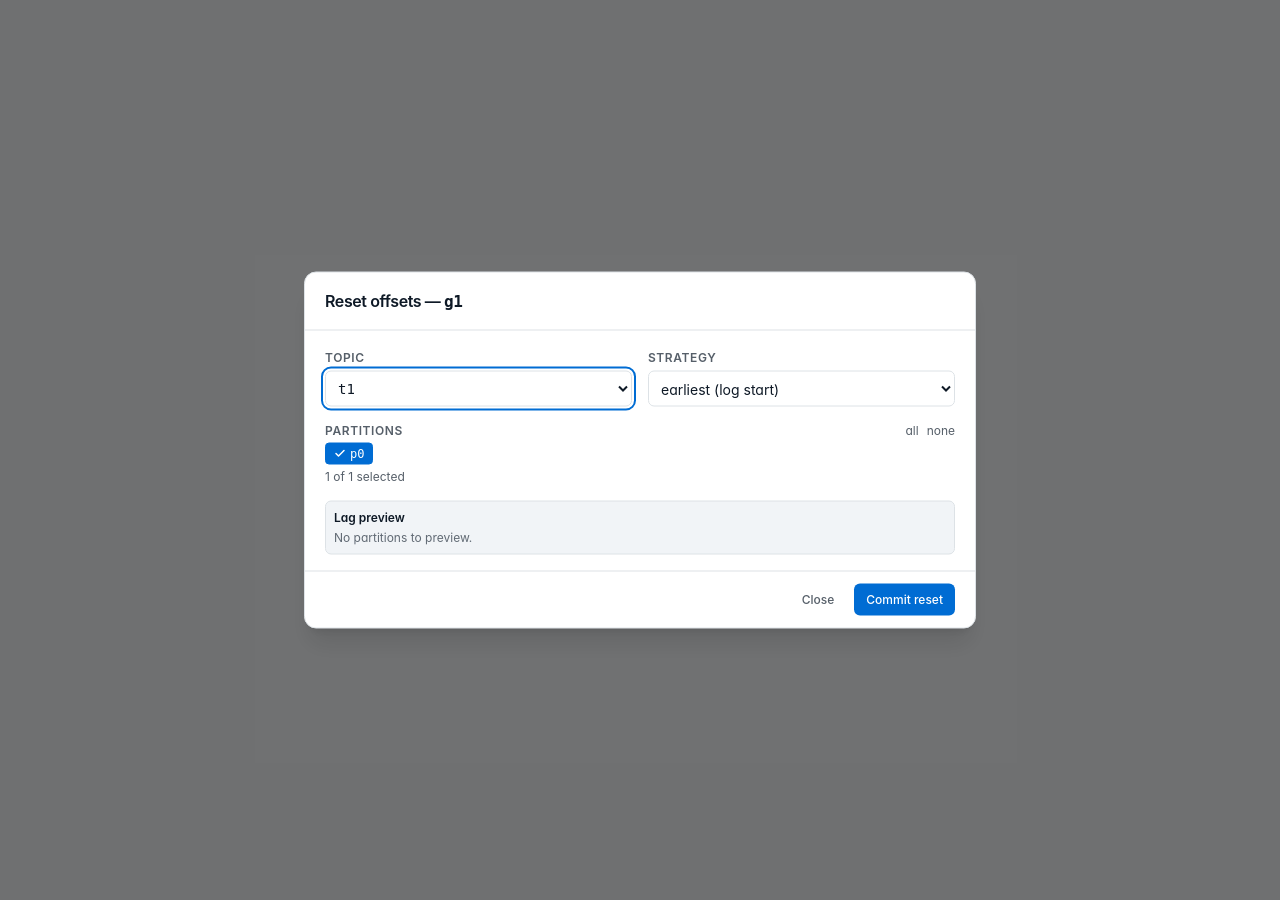
Test: ResetOffsetsModal timestamp strategy › renders a date & time picker with relative quick buttons instead of a raw epoch field
Select "timestamp" in the dropdown labelled "Strategy" at (802,388), box [648,370,955,406]
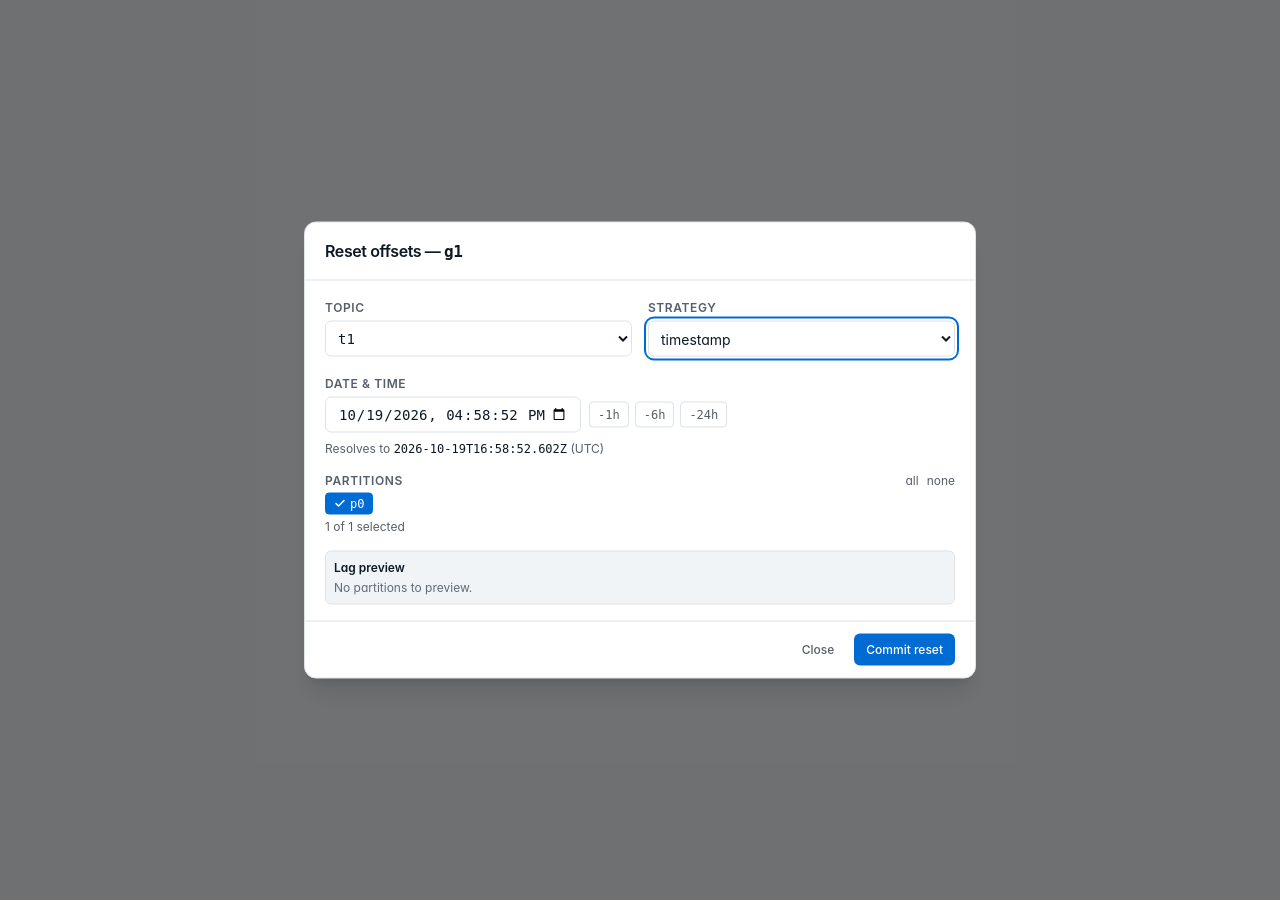
Now the field is not empty, box [325,396,581,432]
Now the button "-1h" is shown, box [589,402,629,428]
Now the button "-6h" is shown, box [635,402,674,428]
